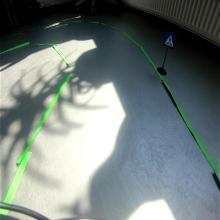crosswalk: (162, 31, 177, 50)
